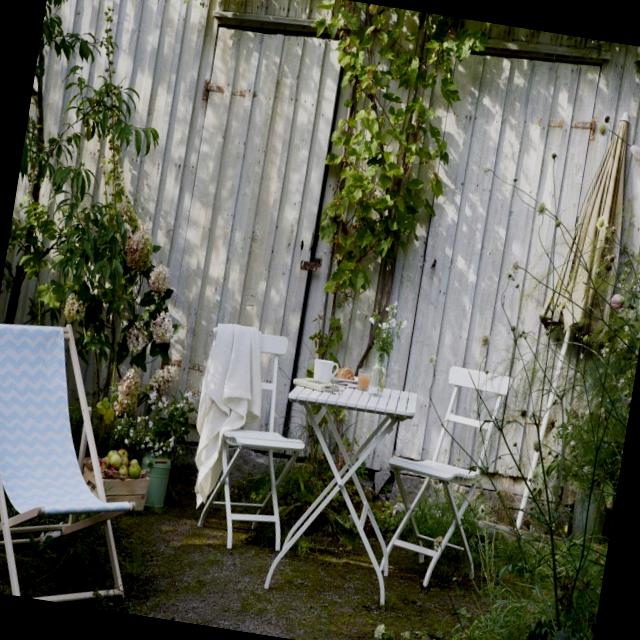obstacle: (0, 309, 169, 613), (256, 364, 424, 611), (377, 350, 520, 600), (176, 317, 303, 554)
